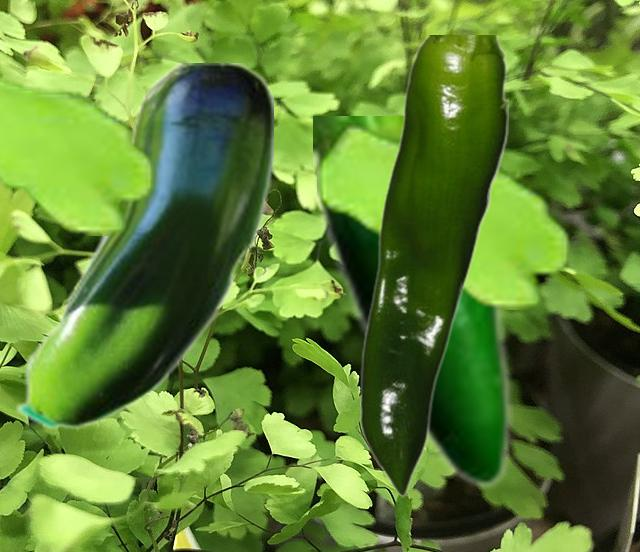green_chili: (13, 63, 272, 430), (313, 116, 512, 489), (358, 35, 507, 496)
